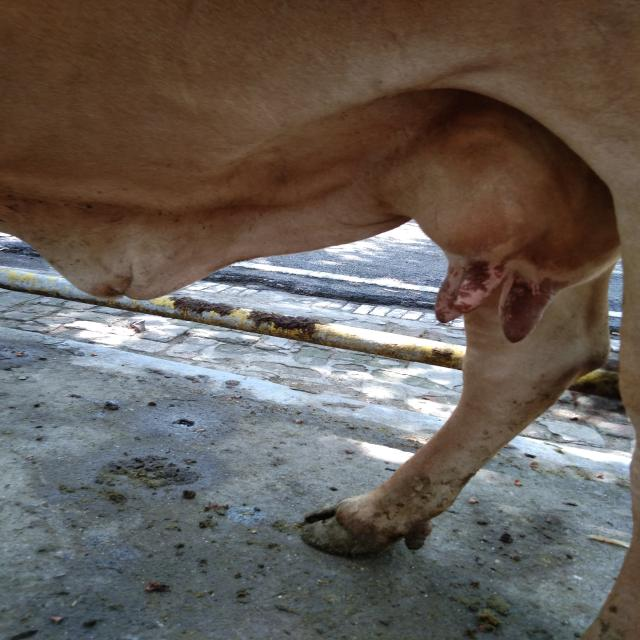Hoof: (299, 494, 431, 557)
